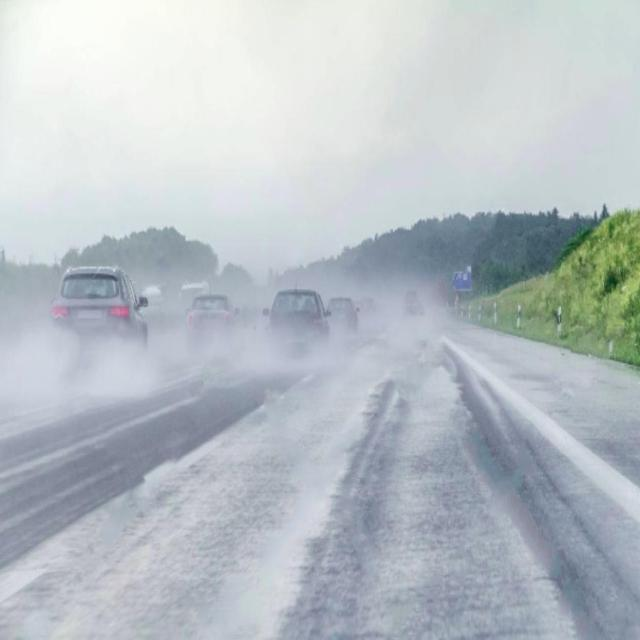Car: (49, 263, 152, 371), (261, 289, 333, 358), (185, 292, 239, 351)
